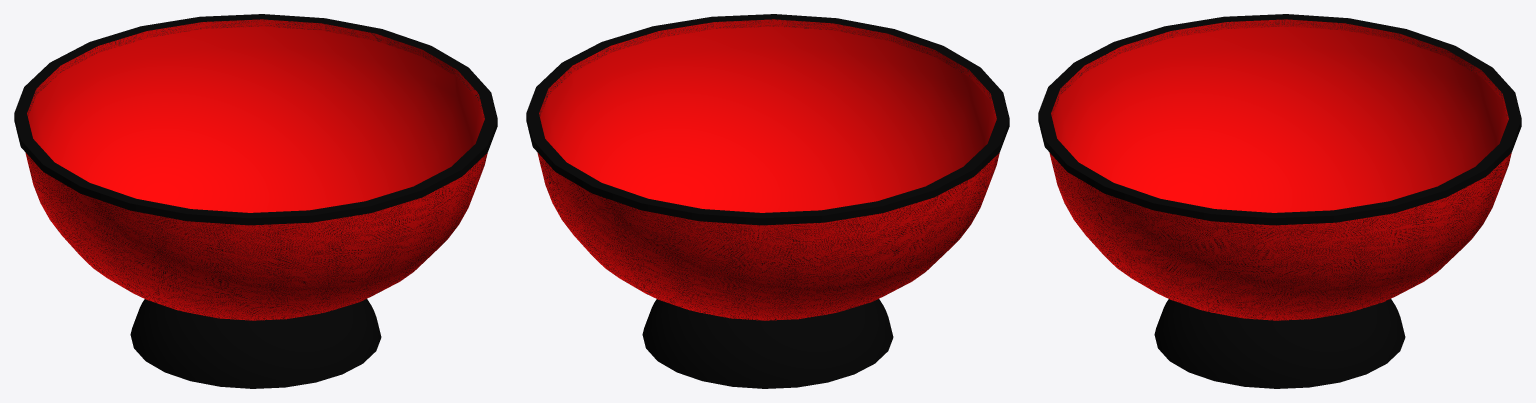
Rendered from bowl_05_origin_gt.dae.
The picture shows the model from 3 angles, left to right: view 1: azimuth 30°, elevation 25°; view 2: azimuth 150°, elevation 25°; view 3: azimuth 270°, elevation 25°; orthographic projection.
Parts seen in each view (by area): view 1: Component_2 (×5); view 2: Component_2 (×5); view 3: Component_2 (×5).
Boxes of the visible parts, <box> form: Component_2 (×5): <box>14,14,497,388</box>; Component_2 (×5): <box>526,14,1009,388</box>; Component_2 (×5): <box>1038,14,1521,388</box>.
Size of the model in its own units: 7.06 by 7.06 by 3.54.
